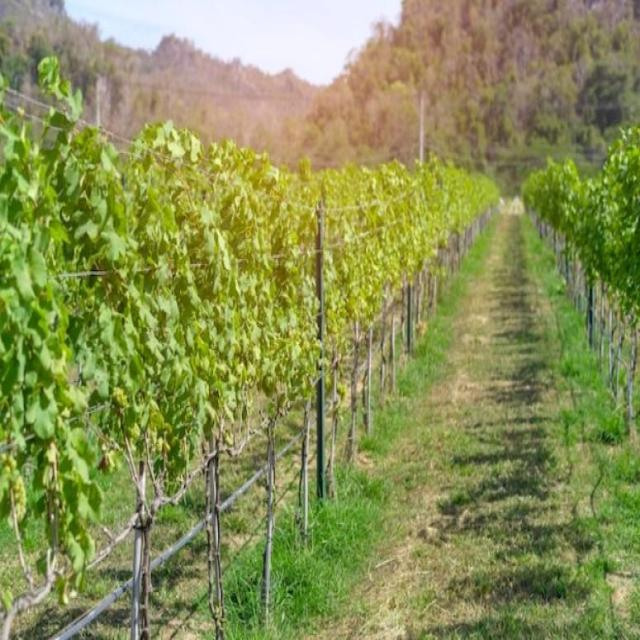row: (185, 207, 640, 640)
